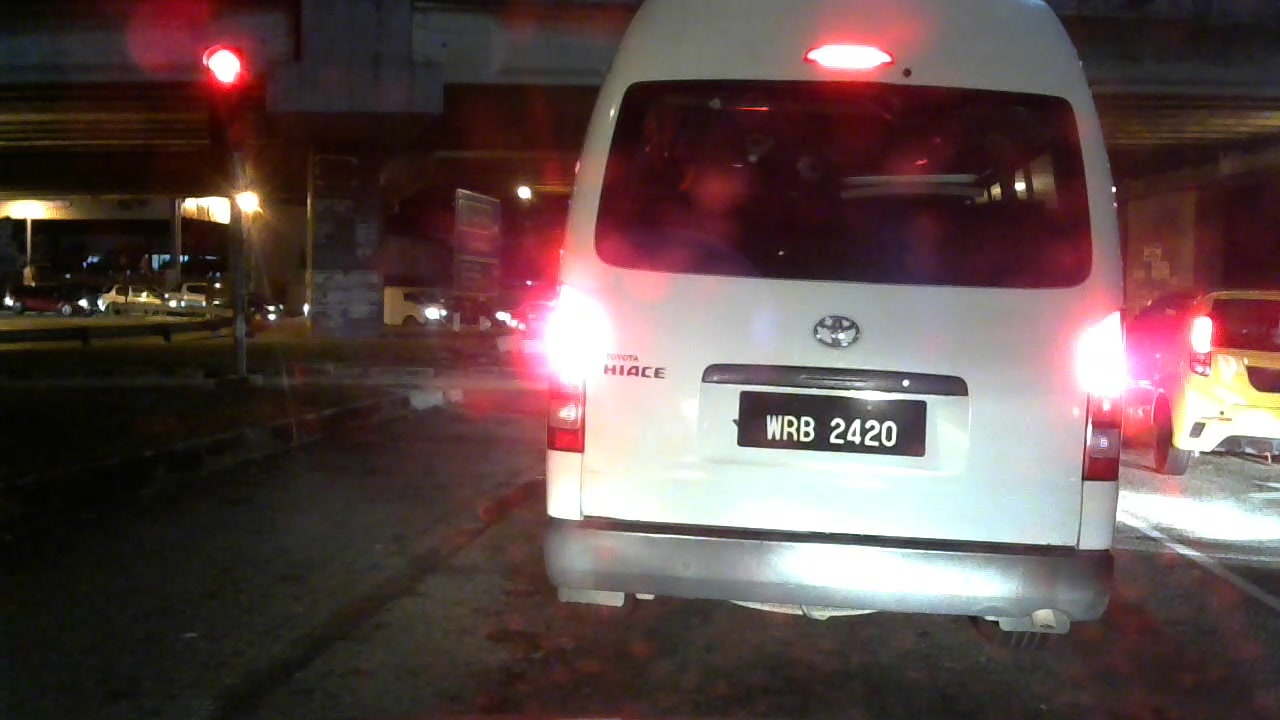Car: (480, 1, 1137, 651), (1133, 274, 1280, 503), (1, 275, 94, 318), (380, 277, 449, 331), (89, 280, 162, 318)
